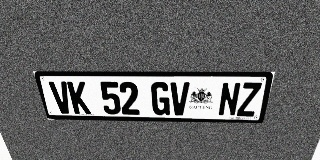2: (118, 82, 139, 115)
5: (99, 82, 122, 114)
G: (151, 82, 170, 115)
K: (67, 81, 91, 114)
N: (218, 82, 241, 116)
V: (48, 81, 74, 114), (170, 82, 190, 115)
Z: (236, 82, 262, 116)
